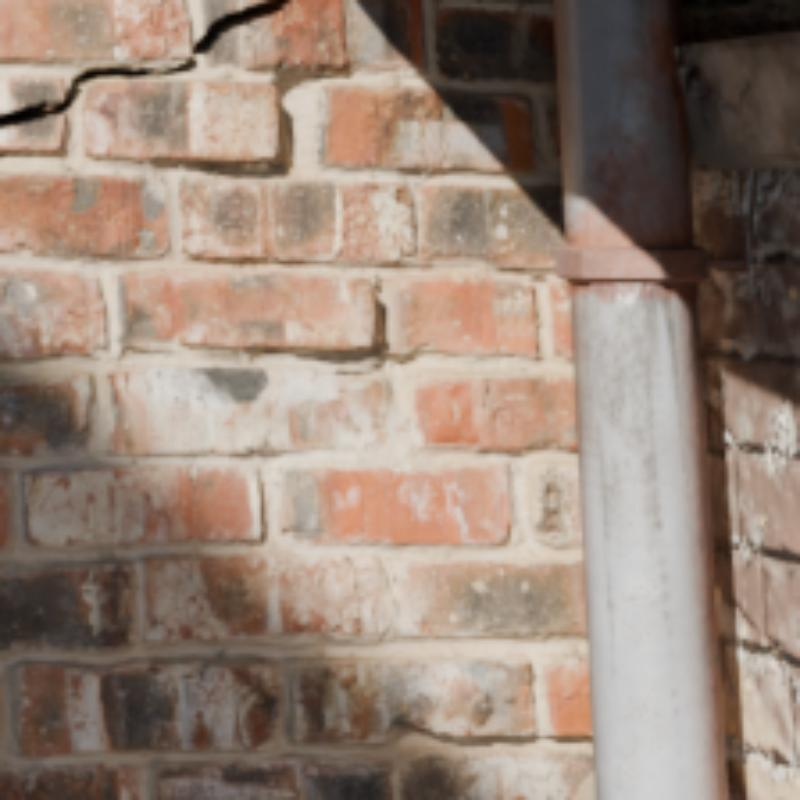crack: (0, 54, 193, 125), (193, 0, 286, 54)
